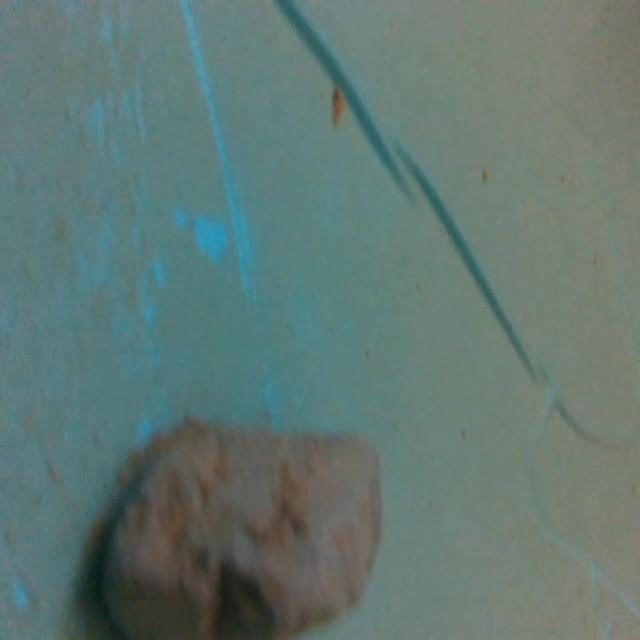rock: (90, 409, 387, 640)
